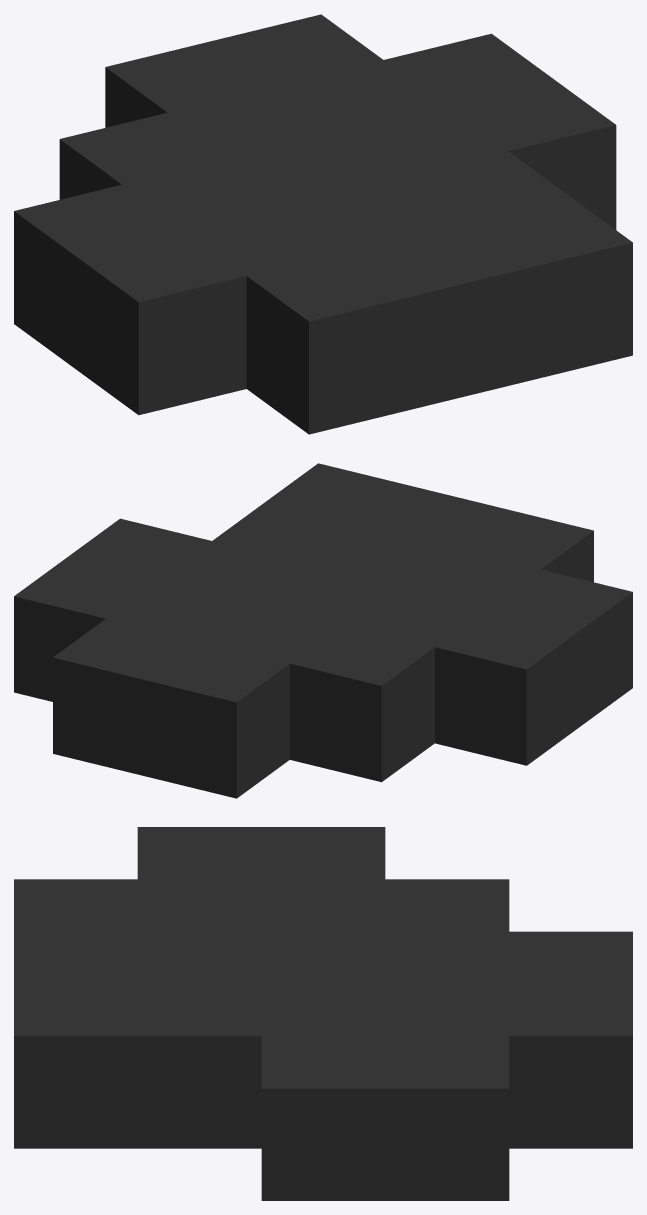
Rendered from Cobblestone 1.obj.
The picture shows the model from 3 angles, top to bottom: view 1: azimuth 30°, elevation 25°; view 2: azimuth 150°, elevation 25°; view 3: azimuth 270°, elevation 25°; orthographic projection. The views are drawn at different scales.
Size of the model in its own units: 0.5 by 0.1 by 0.5.
1 material, 1 textured.
